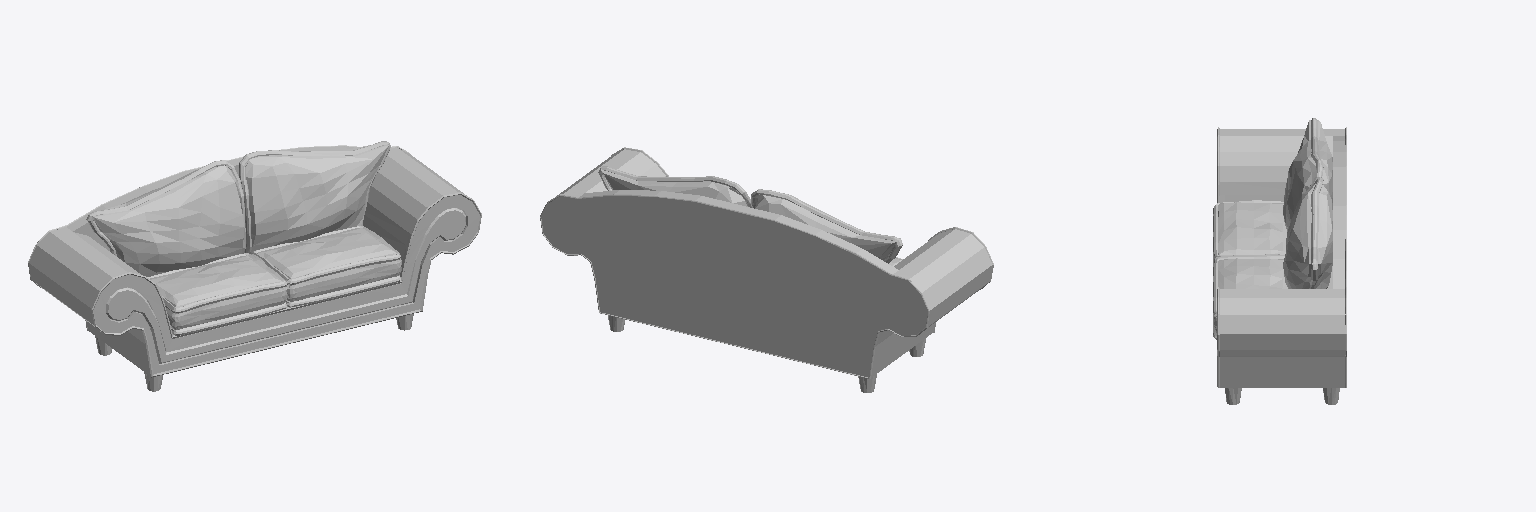
Rendered from Sofa_Big.obj.
3 renders of one model, left to right at view 1: azimuth 30°, elevation 25°; view 2: azimuth 150°, elevation 25°; view 3: azimuth 270°, elevation 25°, orthographic.
Visible parts, largest first — view 1: SofaLarge SofaLarge_low, SofaLarge SofaCushionBack_low, SofaLarge SofaCushion_low, SofaLarge SofaDetails_low, SofaLarge SofaCushionDetails_low, SofaLarge SofaCushionBackDetails_low, SofaLarge SofaDetailsFront_low, SofaLarge SofaLegs_low; view 2: SofaLarge SofaLarge_low, SofaLarge SofaCushionBack_low, SofaLarge SofaCushionBackDetails_low, SofaLarge SofaDetailsBack_low, SofaLarge SofaLegs_low; view 3: SofaLarge SofaLarge_low, SofaLarge SofaCushionBack_low, SofaLarge SofaCushion_low, SofaLarge SofaCushionBackDetails_low, SofaLarge SofaCushionDetails_low.
Boxes of the visible parts, box(x1,y1,x2,y2) form: SofaLarge SofaLarge_low: box(29, 146, 479, 375); SofaLarge SofaCushionBack_low: box(89, 144, 388, 276); SofaLarge SofaCushion_low: box(150, 228, 401, 329); SofaLarge SofaDetails_low: box(106, 208, 465, 363); SofaLarge SofaCushionDetails_low: box(147, 226, 400, 335); SofaLarge SofaCushionBackDetails_low: box(86, 141, 390, 255); SofaLarge SofaDetailsFront_low: box(91, 192, 481, 377); SofaLarge SofaLegs_low: box(95, 314, 413, 391); SofaLarge SofaLarge_low: box(541, 149, 992, 377); SofaLarge SofaCushionBack_low: box(601, 169, 900, 260); SofaLarge SofaCushionBackDetails_low: box(598, 166, 902, 263); SofaLarge SofaDetailsBack_low: box(540, 194, 929, 378); SofaLarge SofaLegs_low: box(608, 315, 925, 392); SofaLarge SofaLarge_low: box(1220, 129, 1345, 387); SofaLarge SofaCushionBack_low: box(1283, 120, 1332, 288); SofaLarge SofaCushion_low: box(1214, 202, 1287, 333); SofaLarge SofaCushionBackDetails_low: box(1309, 118, 1323, 288); SofaLarge SofaCushionDetails_low: box(1213, 200, 1284, 339).
Bounding box in the file's own units: 158 × 65.71 × 47.03.